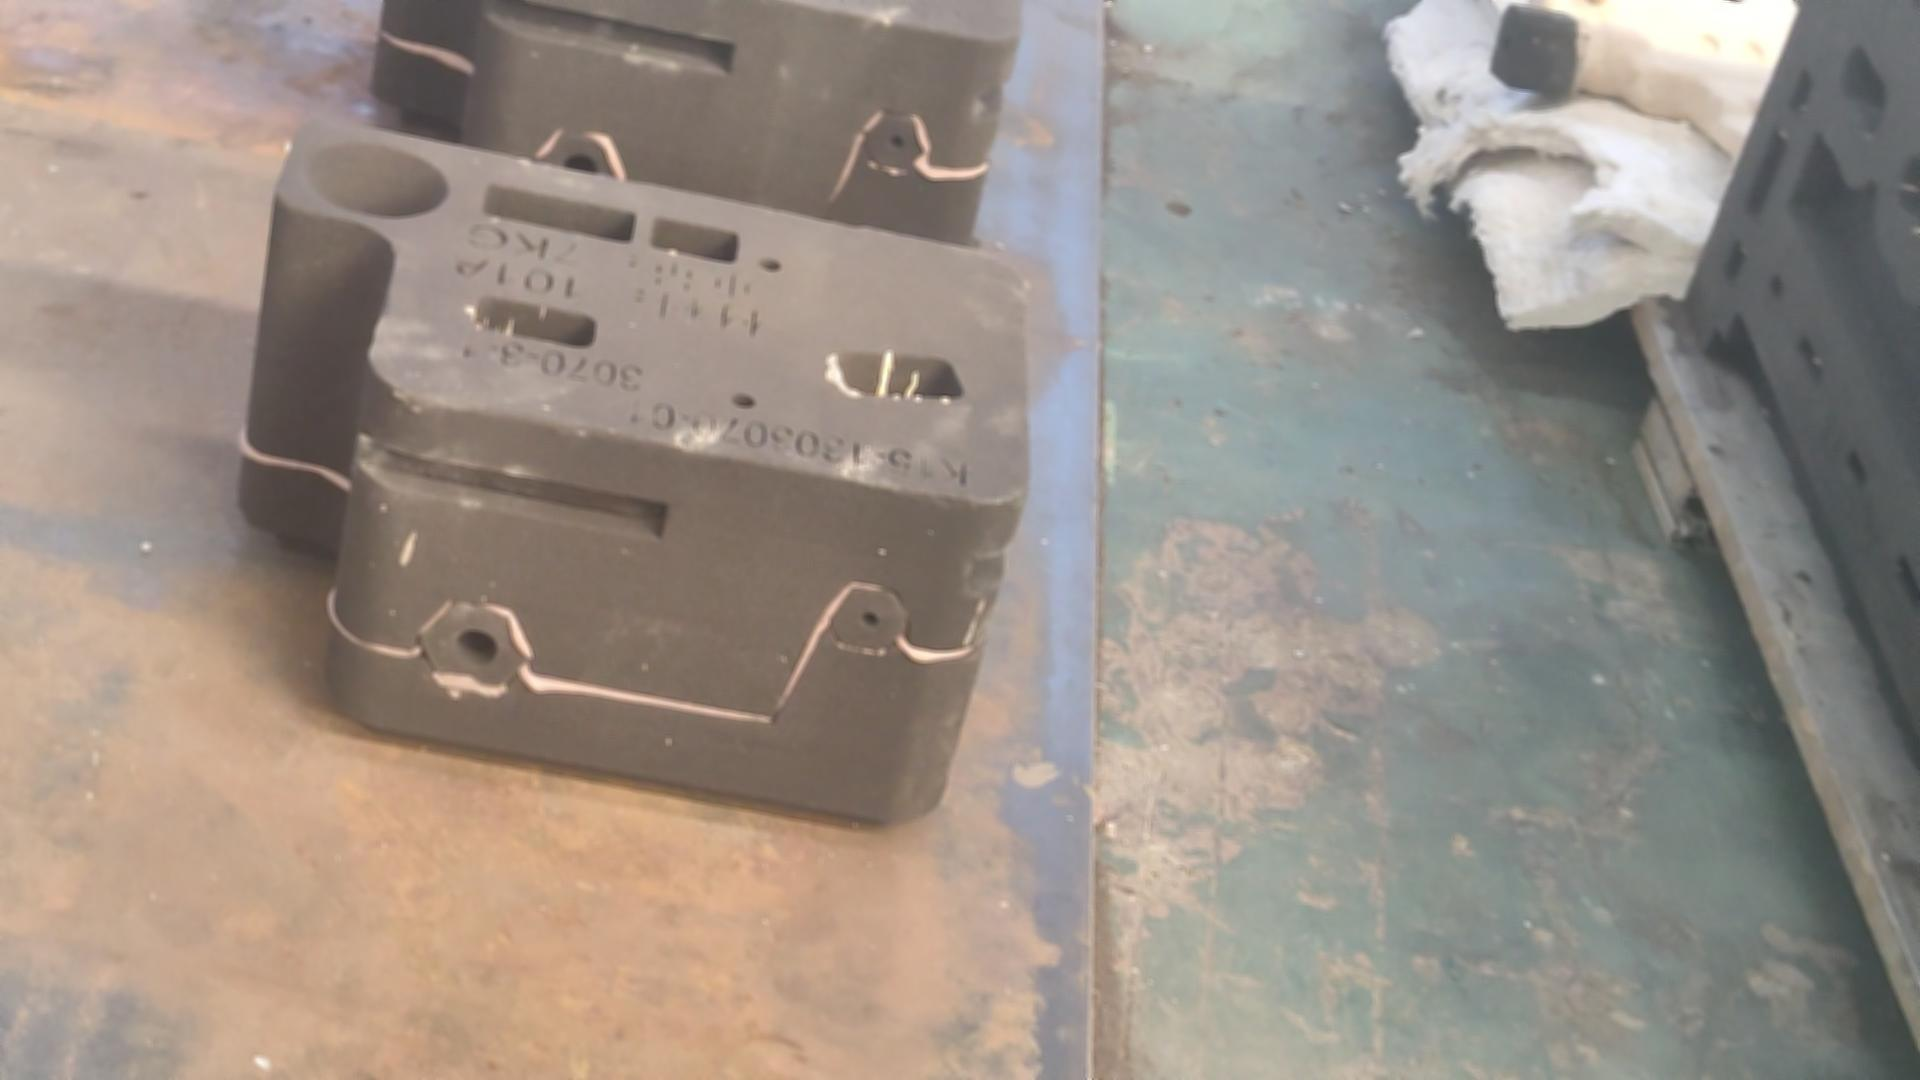pouring hole: (303, 136, 448, 219)
